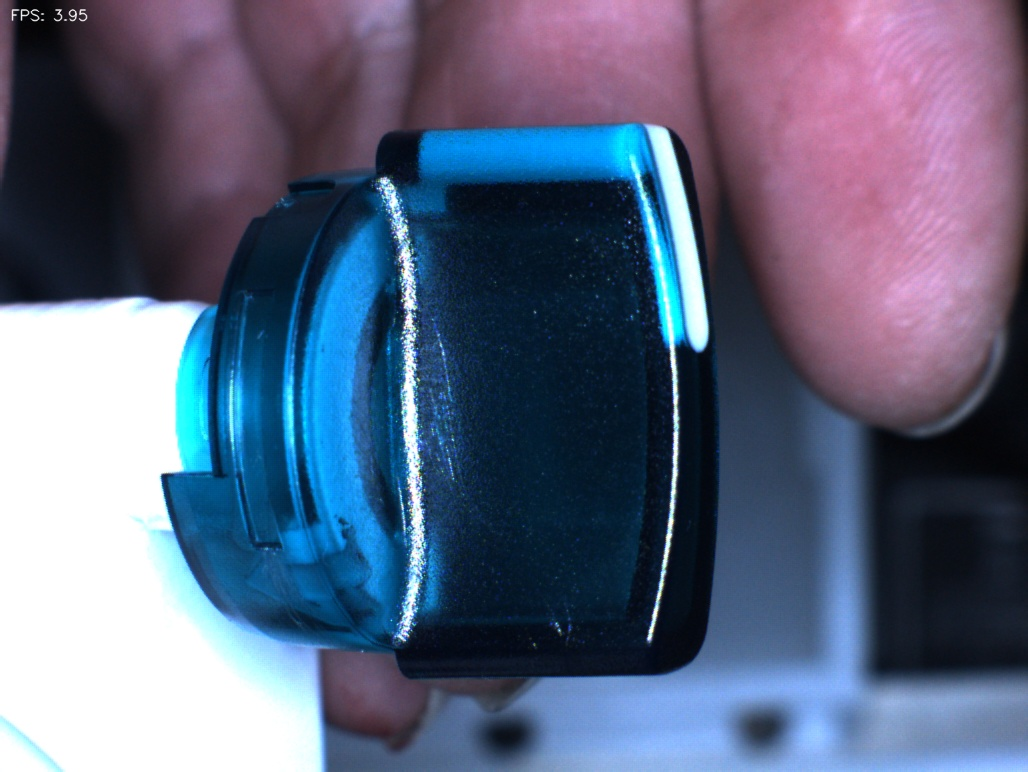Givrage: (395, 289, 482, 509)
